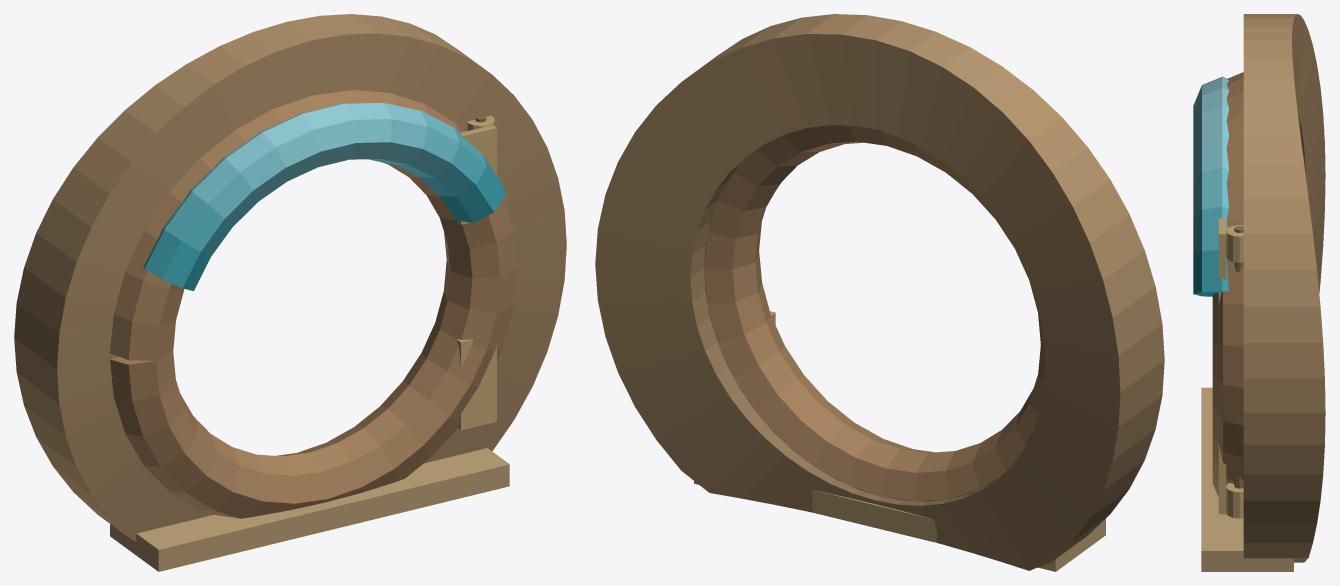
File: goo_jar_door@beach.fbx
3 renders of one model, left to right at view 1: azimuth 30°, elevation 25°; view 2: azimuth 150°, elevation 25°; view 3: azimuth 270°, elevation 25°, orthographic. The views are drawn at different scales.
Visible parts, largest first — view 1: goo_jar_door; view 2: goo_jar_door; view 3: goo_jar_door.
Boxes of the visible parts, <box> form: goo_jar_door: <box>14,14,566,571</box>; goo_jar_door: <box>595,14,1164,571</box>; goo_jar_door: <box>1193,14,1325,571</box>.
Bounding box in the file's own units: 14.52 × 13.06 × 3.42.
